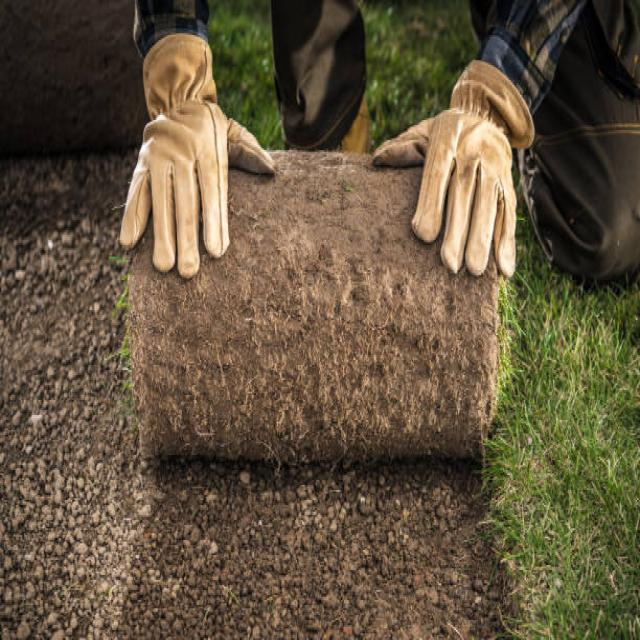Gloves: (114, 24, 283, 278), (371, 53, 543, 286)
